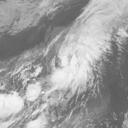cyclone: (45, 47, 94, 95)
